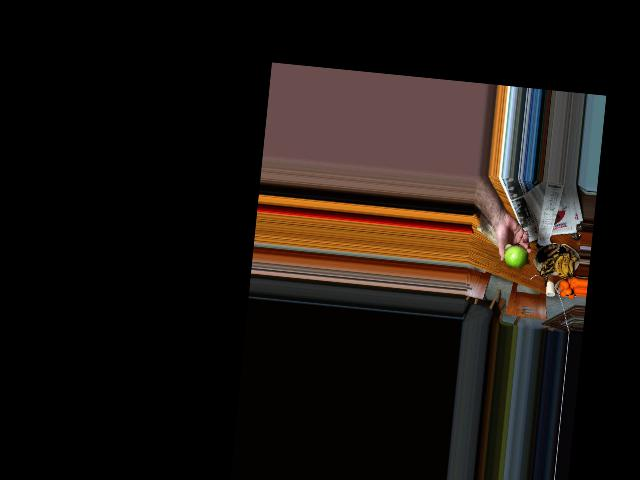apple: (504, 244, 529, 270)
